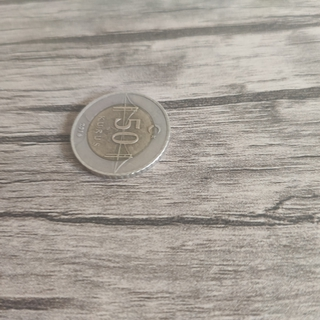50KURUS: (67, 90, 172, 180)
